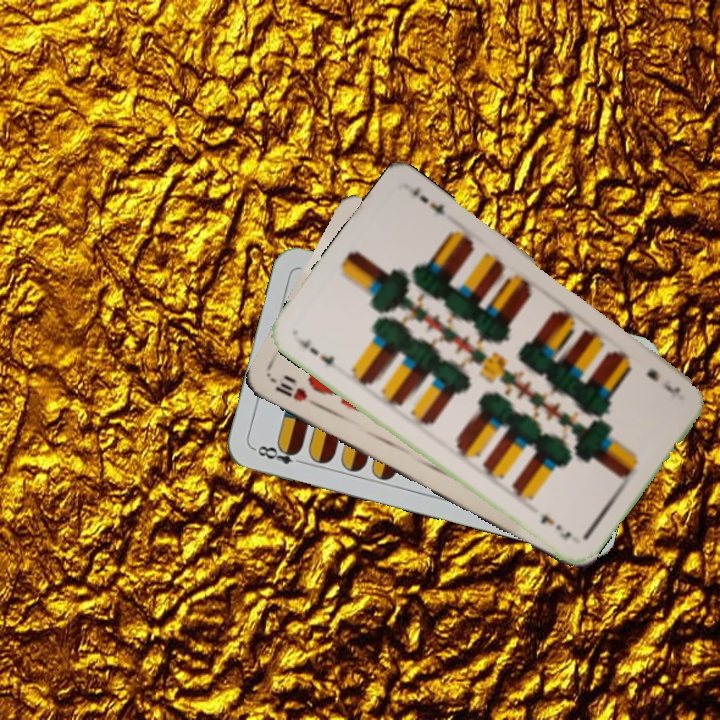E7: (293, 333, 337, 368), (642, 365, 684, 397)
E8: (250, 441, 308, 467)
H10: (270, 378, 323, 410)
